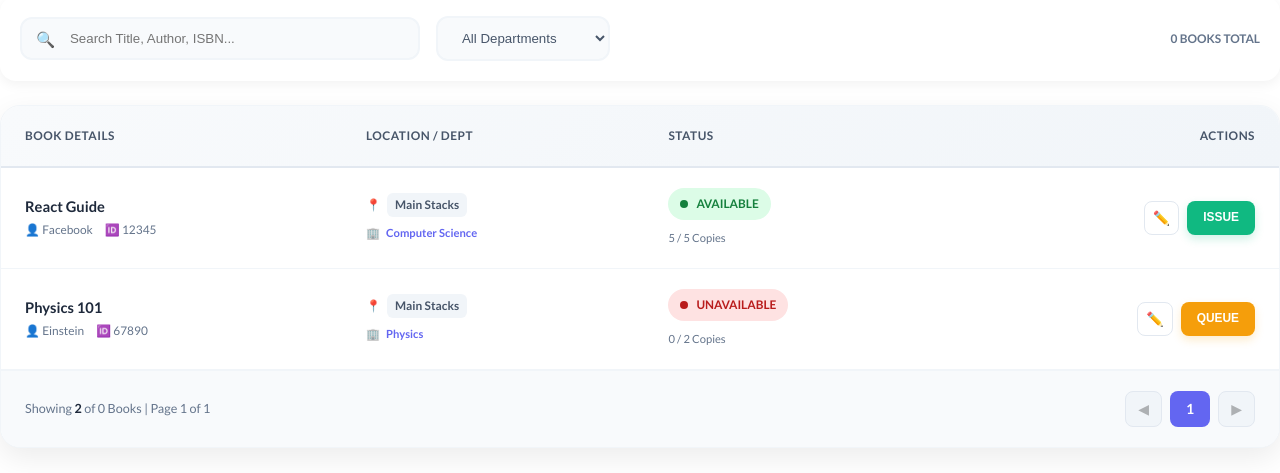
BookInventory Component › filters books by search term
Expected: the text "React Guide" is shown, 25,197 -> 105,215
Type "Physics" into the field with placeholder "Search Title, Author, ISBN...".
click(220, 39); type("Physics")  # box 20,17 -> 420,60
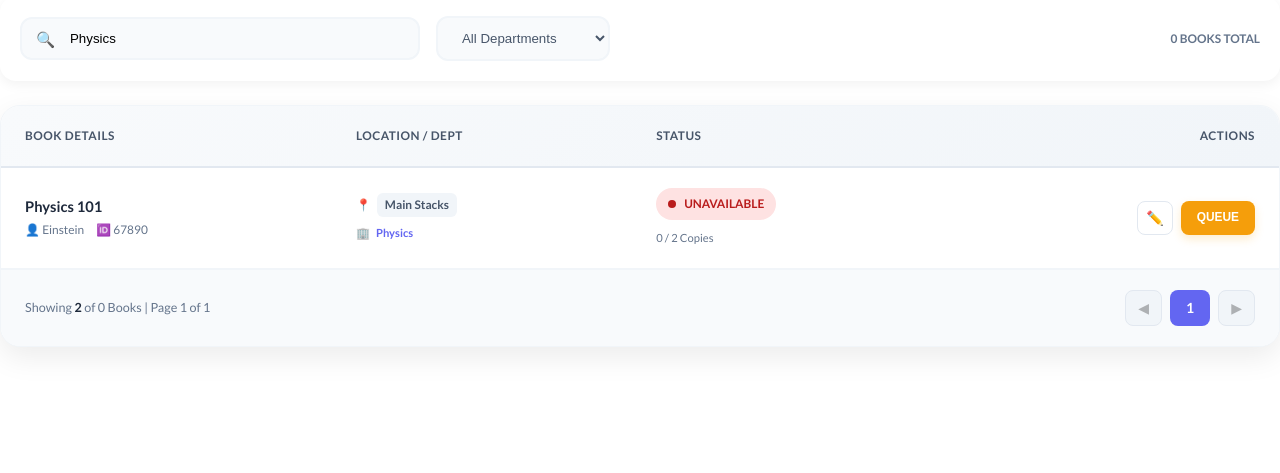
Expected: the text "Physics 101" is shown, 25,197 -> 102,215
Expected: the text "React Guide" is gone
